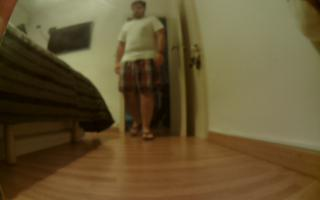person: (117, 1, 165, 139)
